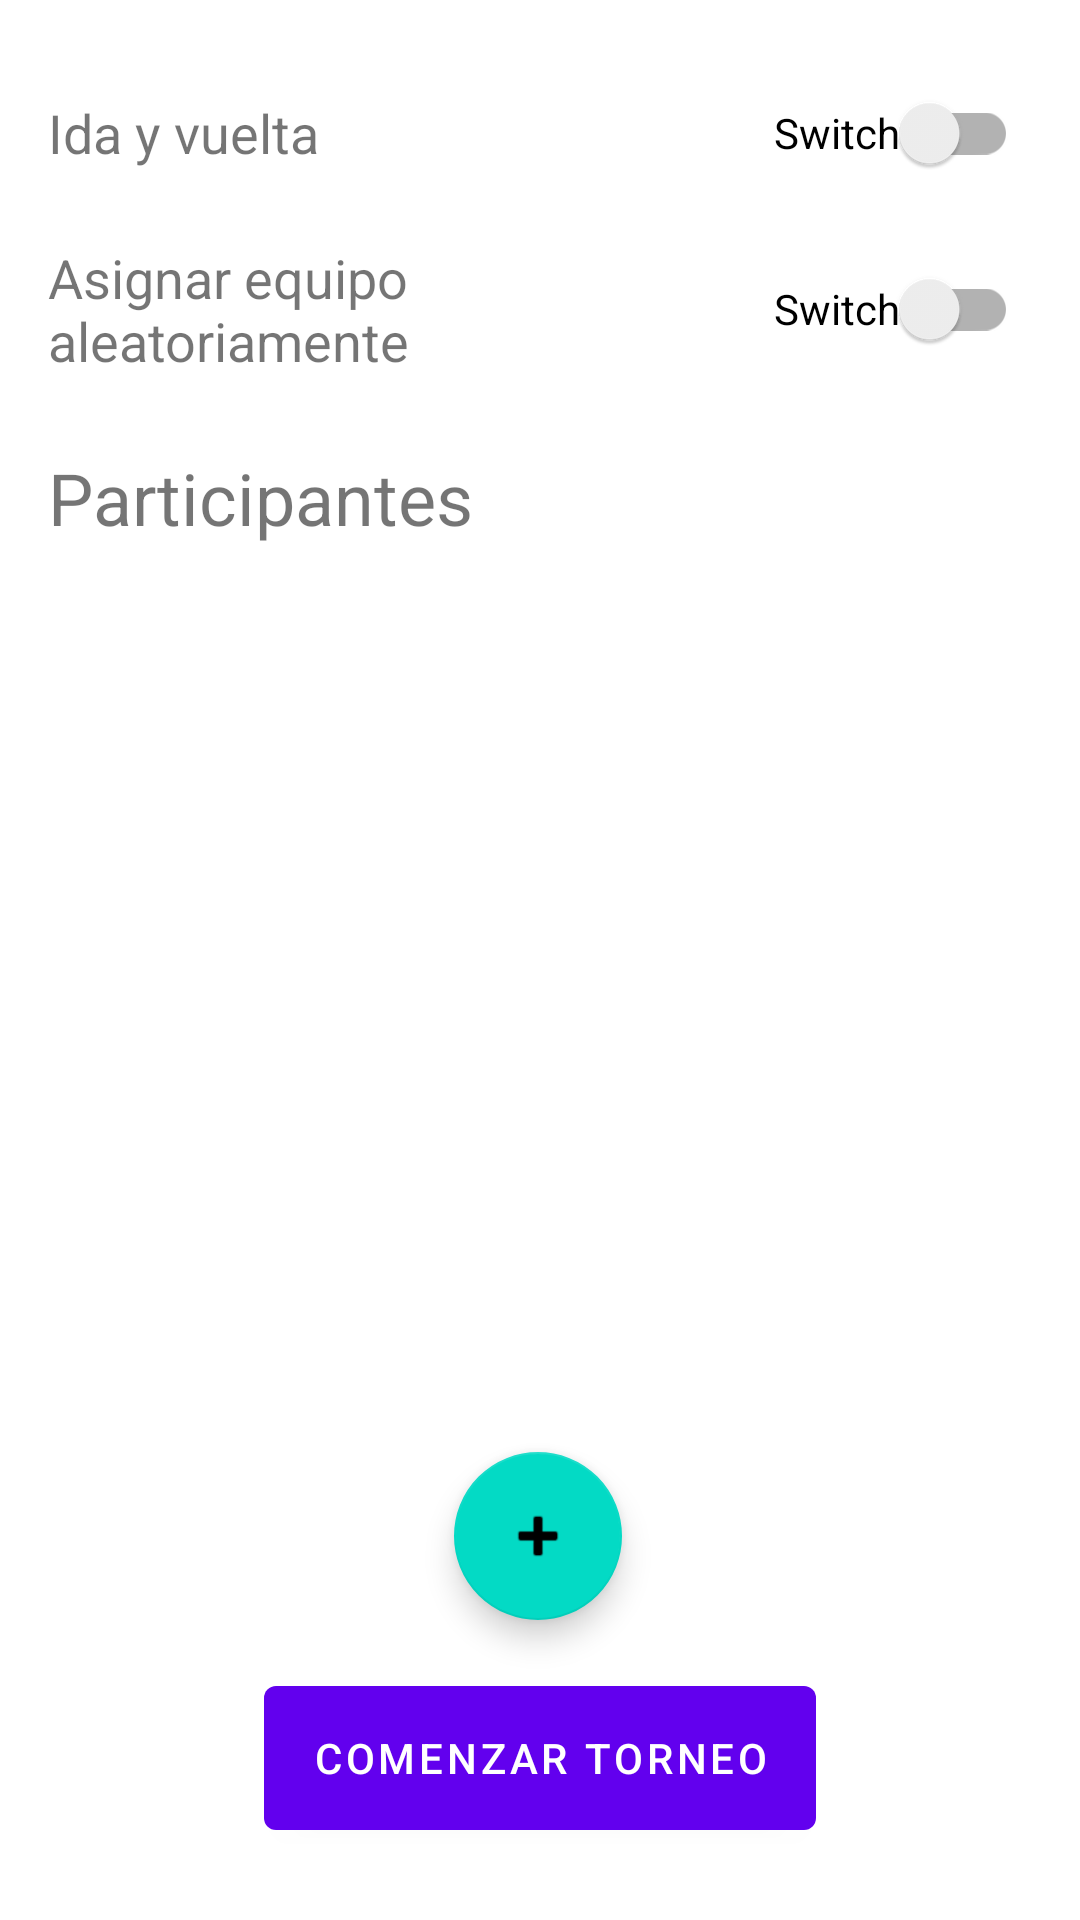

Screen size 1080 × 1920. Icon name, then its box in pixels as bbox=[x1, y1, x2, y2]:
add: bbox=[454, 1452, 622, 1620]
